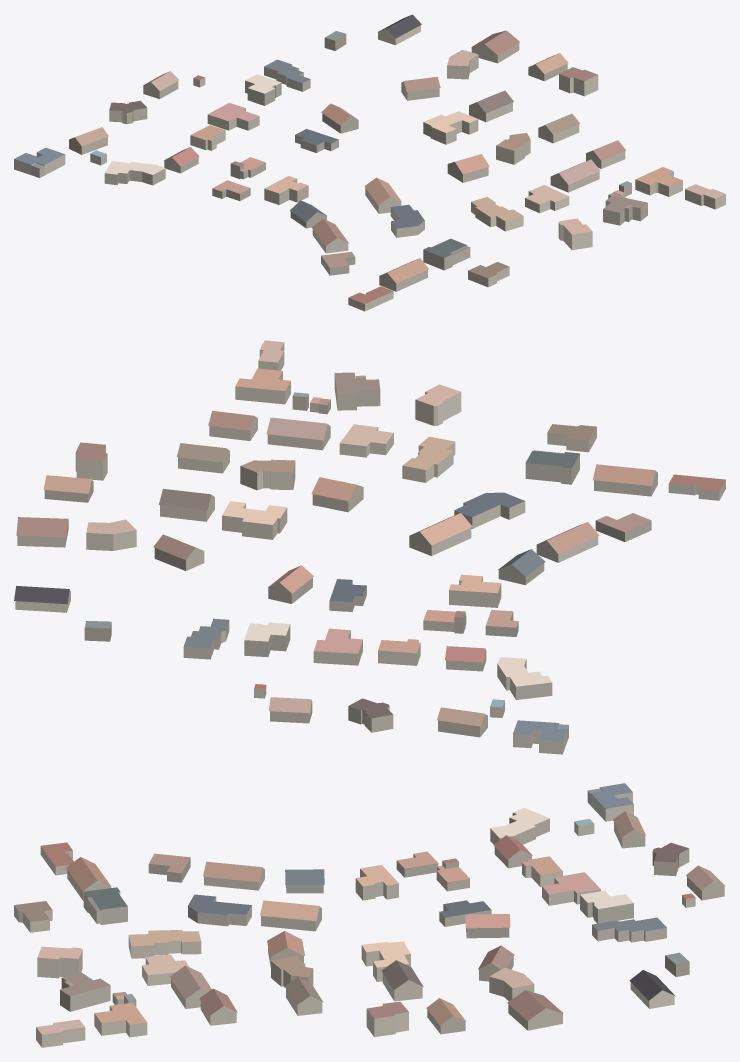
3 views of the same model, one above another, from view 1: azimuth 30°, elevation 25°; view 2: azimuth 150°, elevation 25°; view 3: azimuth 270°, elevation 25° (orthographic). The views are drawn at different scales.
Visible parts, largest first — view 1: tuile; view 2: tuile; view 3: tuile.
Part boxes in pixels (x1,y1,x2,y2): tuile: (14,14,725,311); tuile: (14,340,725,754); tuile: (14,783,724,1047).
Bounding box in the file's own units: 245 × 25.47 × 257.
